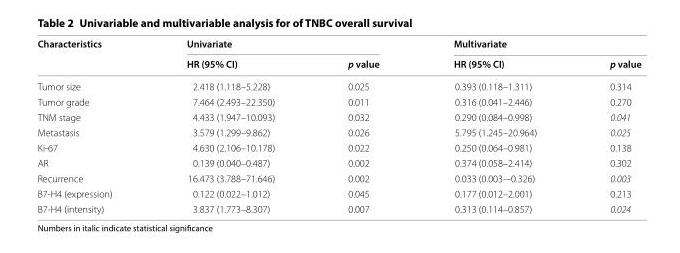table: (36, 36, 640, 214)
table column: (148, 36, 310, 214), (415, 36, 572, 214), (36, 36, 148, 214), (310, 36, 415, 214), (572, 36, 640, 214)
table column header: (36, 36, 640, 74)
table row: (36, 53, 640, 74), (36, 74, 640, 93), (36, 36, 640, 53), (36, 93, 640, 109), (36, 154, 640, 170), (36, 109, 640, 124), (36, 124, 640, 139), (36, 139, 640, 154), (36, 170, 640, 185), (36, 185, 640, 200), (36, 200, 640, 214)
table spanning cell: (148, 36, 415, 53), (36, 36, 148, 74), (415, 36, 640, 53)
